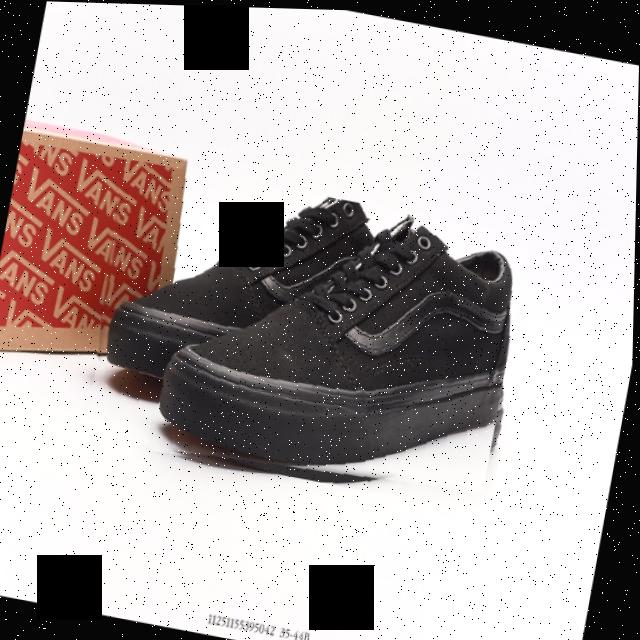shoe: (74, 157, 532, 511), (138, 185, 538, 512)
